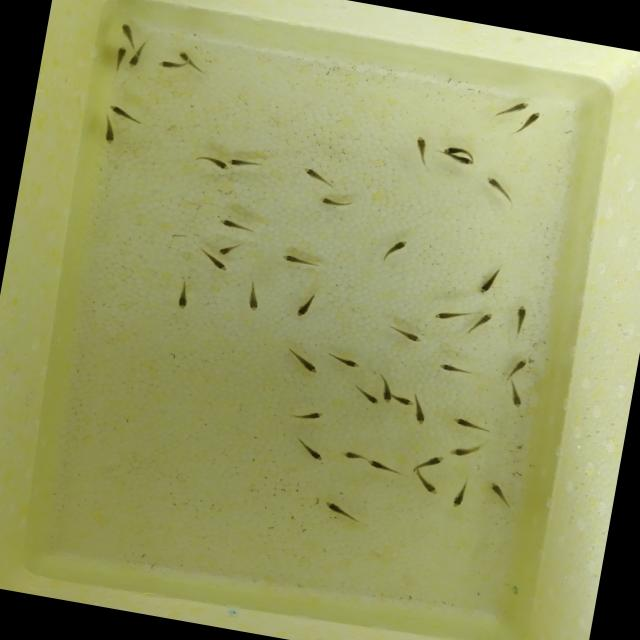fingerling: (100, 100, 146, 124), (497, 93, 535, 122), (288, 352, 329, 378), (165, 284, 199, 315), (320, 498, 357, 524), (500, 381, 530, 413), (482, 477, 516, 505), (387, 319, 425, 344), (449, 412, 488, 436), (215, 215, 257, 237), (276, 250, 318, 272), (432, 301, 467, 327), (116, 16, 141, 50), (404, 401, 435, 428), (299, 166, 337, 188), (482, 174, 516, 198), (447, 480, 474, 510), (407, 132, 431, 165), (410, 474, 446, 496), (474, 270, 499, 300), (364, 456, 398, 478), (515, 106, 542, 133), (383, 232, 409, 260), (510, 302, 536, 330), (470, 306, 496, 334), (200, 252, 233, 274), (174, 48, 204, 72), (194, 154, 234, 172), (297, 404, 332, 424), (294, 291, 316, 322), (225, 154, 265, 170), (240, 288, 264, 314), (506, 352, 532, 376), (444, 443, 478, 461), (433, 361, 473, 376), (125, 40, 144, 71), (323, 354, 362, 369), (148, 56, 184, 72), (297, 444, 328, 462), (98, 120, 119, 146), (316, 194, 348, 210), (109, 42, 128, 68), (379, 382, 396, 410), (417, 454, 443, 472), (353, 389, 381, 405), (441, 144, 473, 157), (389, 392, 416, 407), (338, 448, 366, 462), (444, 155, 474, 168), (217, 241, 240, 257)
